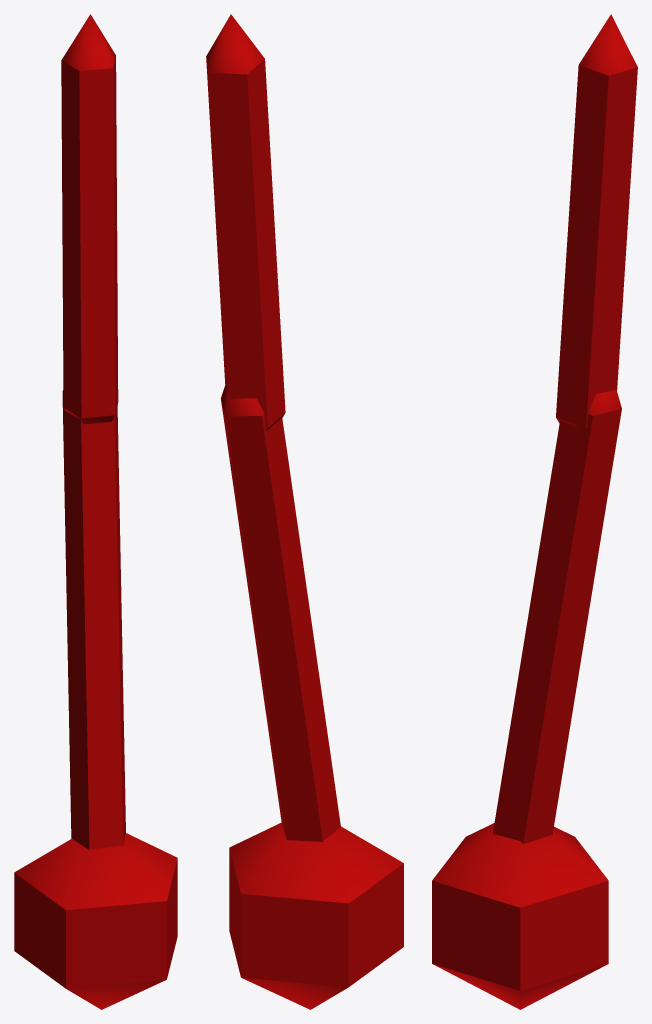
File: SM_Env_Tree_Banana_03_Collision.gltf
3 views of the same model, side by side, from view 1: azimuth 30°, elevation 25°; view 2: azimuth 150°, elevation 25°; view 3: azimuth 270°, elevation 25° (orthographic). The views are drawn at different scales.
Visible parts, largest first — view 1: SM_Env_Tree_Banana_03_Collision; view 2: SM_Env_Tree_Banana_03_Collision; view 3: SM_Env_Tree_Banana_03_Collision.
Part boxes in pixels (bbox=[...]): SM_Env_Tree_Banana_03_Collision: bbox=[14, 14, 177, 1009]; SM_Env_Tree_Banana_03_Collision: bbox=[206, 14, 403, 1009]; SM_Env_Tree_Banana_03_Collision: bbox=[432, 14, 637, 1009].
Bounding box in the file's own units: 0.8563 × 5.69 × 1.05.
